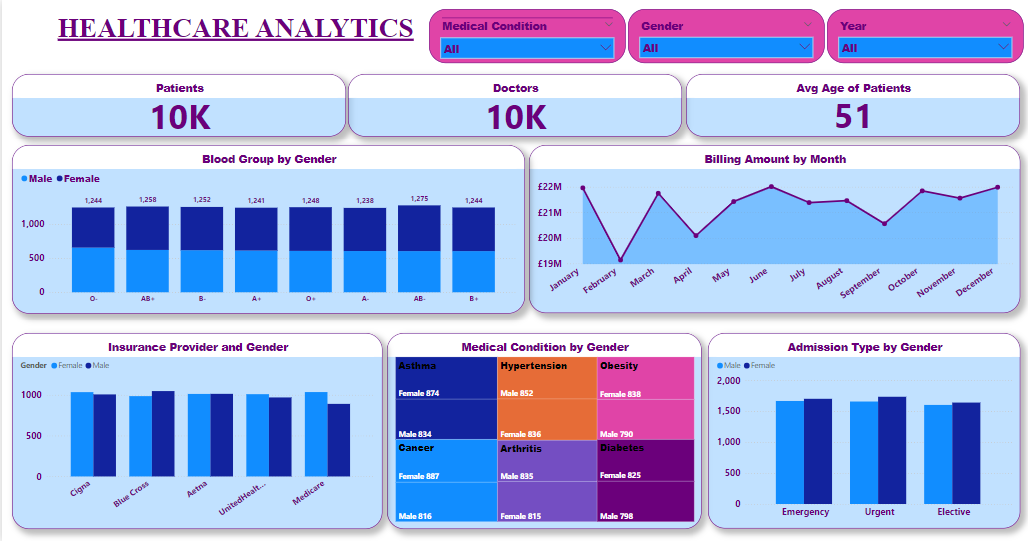

What the dashboard file says about the page in this screenshot:
{"tool":"powerbi","page":{"name":"Gender Distribution","canvas":[1800,950],"ordinal":0},"visuals":[{"type":"card","title":"Patients","fields":{"Values":["healthcare_dataset.Total Patient"]},"box":[17.4,129.7,586.5,110.3],"z":0},{"type":"card","title":"Doctors","fields":{"Values":["healthcare_dataset.Total Doctors"]},"box":[607.7,129.7,586.5,110.3],"z":1000},{"type":"card","title":"Avg Age of Patients","fields":{"Values":["Avg(healthcare_dataset.Age)"]},"box":[1200,129.7,586.5,110],"z":2000},{"type":"treemap","title":"Medical Condition by Gender","fields":{"Group":["healthcare_dataset.Medical Condition"],"Values":["healthcare_dataset.Male","healthcare_dataset.Female"]},"box":[676,584,552,344],"z":3000},{"type":"lineChart","title":"Billing Amount by Month","fields":{"Category":["healthcare_dataset.Discharge Date.Variation.Date Hierarchy.Month"],"Y":["Sum(healthcare_dataset.Billing Amount)"]},"box":[925,255,861.7,295],"z":4000},{"type":"columnChart","title":"Blood Group by Gender","fields":{"Category":["healthcare_dataset.Blood Type"],"Y":["healthcare_dataset.Male","healthcare_dataset.Female"]},"box":[18.2,254.5,900,296.4],"z":5000},{"type":"clusteredColumnChart","title":"Admission Type by Gender","fields":{"Y":["healthcare_dataset.Male","healthcare_dataset.Female"],"Category":["healthcare_dataset.Admission Type"]},"box":[1238.3,583.3,548.3,343.3],"z":6000},{"type":"textbox","box":[0,16.4,820,94.5],"z":7000},{"type":"slicer","fields":{"Values":["healthcare_dataset.Gender"]},"box":[1098.2,16.4,345.5,94.5],"z":8000},{"type":"slicer","fields":{"Values":["healthcare_dataset.Medical Condition"]},"box":[749.1,16.4,345.5,94.5],"z":9000},{"type":"clusteredColumnChart","title":"Insurance Provider and Gender","fields":{"Category":["healthcare_dataset.Insurance Provider"],"Series":["healthcare_dataset.Gender"],"Y":["healthcare_dataset.Total Patient"]},"box":[18,584,650,344],"z":10000},{"type":"slicer","fields":{"Values":["healthcare_dataset.Discharge Date.Variation.Date Hierarchy.Year"]},"box":[1447.3,16.4,345,94.5],"z":11000}]}

Visuals, with their boxes in screenshot pixels (x1, y1, x2, y2), scaled from the page's 1800x950 canvas onto the 1028x541 screenshot:
"Patients" card: region(10, 74, 345, 137)
"Doctors" card: region(347, 74, 682, 137)
"Avg Age of Patients" card: region(685, 74, 1020, 137)
"Medical Condition by Gender" treemap: region(386, 333, 701, 528)
"Billing Amount by Month" lineChart: region(528, 145, 1020, 313)
"Blood Group by Gender" columnChart: region(10, 145, 524, 314)
"Admission Type by Gender" clusteredColumnChart: region(707, 332, 1020, 528)
textbox: region(0, 9, 468, 63)
slicer - healthcare_dataset.Gender: region(627, 9, 825, 63)
slicer - healthcare_dataset.Medical Condition: region(428, 9, 625, 63)
"Insurance Provider and Gender" clusteredColumnChart: region(10, 333, 382, 528)
slicer - healthcare_dataset.Discharge Date.Variation.Date Hierarchy.Year: region(827, 9, 1024, 63)
